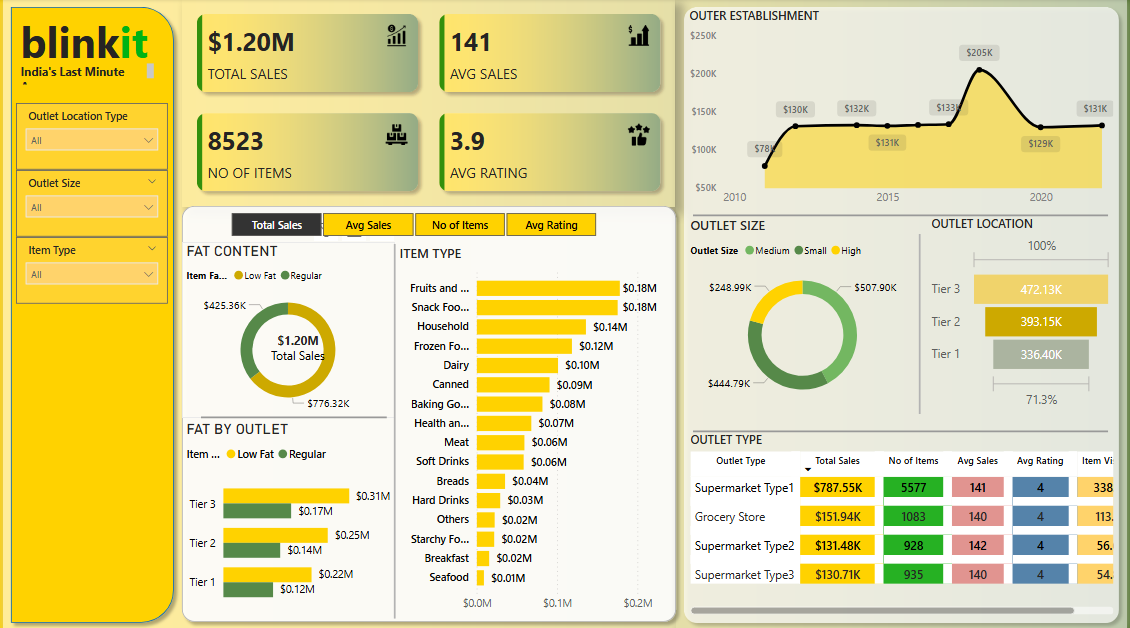

What the dashboard file says about the page in this screenshot:
{"tool":"powerbi","page":{"name":"Page 1","canvas":[1280,720],"ordinal":0},"visuals":[{"type":"shape","box":[0,0,203.6,719.6],"z":0},{"type":"textbox","box":[15.3,10.7,173,91.9],"z":1000},{"type":"textbox","box":[15.3,68.9,162.3,33.7],"z":2000},{"type":"cardVisual","fields":{"Data":["BlinkIT Grocery Data.Total Sales","BlinkIT Grocery Data.Avg Sales","BlinkIT Grocery Data.No of Items","BlinkIT Grocery Data.Avg Rating"]},"box":[204,0,562.2,237.1],"z":3000},{"type":"shape","box":[195.1,226.9,581.4,492.1],"z":4000},{"type":"donutChart","title":"FAT CONTENT","fields":{"Y":["BlinkIT Grocery Data.Total Sales"],"Category":["BlinkIT Grocery Data.Item Fat Content"]},"box":[204,276.7,242.2,200.2],"z":5000},{"type":"slicer","fields":{"Values":["Metrics.Metrics"]},"box":[234.6,237.1,465.3,39.5],"z":6000},{"type":"cardVisual","fields":{"Data":["BlinkIT Grocery Data.Total Sales"]},"box":[281.8,359.5,109.6,73.9],"z":7000},{"type":"clusteredBarChart","title":"FAT BY OUTLET","fields":{"Y":["BlinkIT Grocery Data.Total Sales"],"Category":["BlinkIT Grocery Data.Outlet Location Type"],"Series":["BlinkIT Grocery Data.Item Fat Content"]},"box":[204,479.4,242.2,226.9],"z":8000},{"type":"shape","box":[225.7,446.2,211.6,59.9],"z":9000},{"type":"shape","box":[416.9,279.2,58.6,427.1],"z":10000},{"type":"barChart","title":"ITEM TYPE","fields":{"Y":["BlinkIT Grocery Data.Total Sales"],"Category":["BlinkIT Grocery Data.Item Type"]},"box":[446.2,279.2,320,427.1],"z":11000},{"type":"shape","box":[766.2,0,513.8,720.3],"z":12000},{"type":"lineChart","title":"OUTER ESTABLISHMENT","fields":{"Y":["BlinkIT Grocery Data.Total Sales"],"Category":["BlinkIT Grocery Data.Outlet Establishment Year"]},"box":[776.4,10.2,493.4,234.6],"z":13000},{"type":"donutChart","title":"OUTLET SIZE","fields":{"Y":["BlinkIT Grocery Data.Total Sales"],"Category":["BlinkIT Grocery Data.Outlet Size"]},"box":[777.7,247.3,266.5,224.4],"z":14000},{"type":"shape","box":[1014.8,267.7,58.6,205.3],"z":15000},{"type":"shape","box":[786.6,216.7,473,59.9],"z":16000},{"type":"funnel","title":"OUTLET LOCATION","fields":{"Category":["BlinkIT Grocery Data.Outlet Location Type"],"Y":["Sum(BlinkIT Grocery Data.Sales)"]},"box":[1053.1,247.3,216.7,224.4],"z":17000},{"type":"shape","box":[786.6,462.8,473,59.9],"z":18000},{"type":"pivotTable","title":"OUTLET TYPE","fields":{"Values":["BlinkIT Grocery Data.Total Sales","BlinkIT Grocery Data.No of Items","BlinkIT Grocery Data.Avg Sales","BlinkIT Grocery Data.Avg Rating","Sum(BlinkIT Grocery Data.Item Visibility)"],"Rows":["BlinkIT Grocery Data.Outlet Type"]},"box":[777.7,493.4,492.1,212.9],"z":19000},{"type":"slicer","fields":{"Values":["BlinkIT Grocery Data.Outlet Location Type"]},"box":[15.3,118.6,173.4,76.5],"z":19001},{"type":"slicer","fields":{"Values":["BlinkIT Grocery Data.Outlet Size"]},"box":[15.3,195.1,173.4,76.5],"z":19002},{"type":"slicer","fields":{"Values":["BlinkIT Grocery Data.Item Type"]},"box":[15.3,271.6,173.4,76.5],"z":19003}]}

Visuals, with their boxes in screenshot pixels (x1, y1, x2, y2), scaled from the page's 1280x720 canvas onto the 1130x628 screenshot:
shape: [0,0,180,627]
textbox: [14,9,166,89]
textbox: [14,60,157,89]
cardVisual - BlinkIT Grocery Data.Total Sales x BlinkIT Grocery Data.Avg Sales: [180,0,676,207]
shape: [172,198,686,627]
"FAT CONTENT" donutChart: [180,241,394,416]
slicer - Metrics.Metrics: [207,207,618,241]
cardVisual - BlinkIT Grocery Data.Total Sales: [249,314,346,378]
"FAT BY OUTLET" clusteredBarChart: [180,418,394,616]
shape: [199,389,386,441]
shape: [368,244,420,616]
"ITEM TYPE" barChart: [394,244,676,616]
shape: [676,0,1129,627]
"OUTER ESTABLISHMENT" lineChart: [685,9,1121,214]
"OUTLET SIZE" donutChart: [687,216,922,411]
shape: [896,233,948,413]
shape: [694,189,1112,241]
"OUTLET LOCATION" funnel: [930,216,1121,411]
shape: [694,404,1112,456]
"OUTLET TYPE" pivotTable: [687,430,1121,616]
slicer - BlinkIT Grocery Data.Outlet Location Type: [14,103,167,170]
slicer - BlinkIT Grocery Data.Outlet Size: [14,170,167,237]
slicer - BlinkIT Grocery Data.Item Type: [14,237,167,304]
